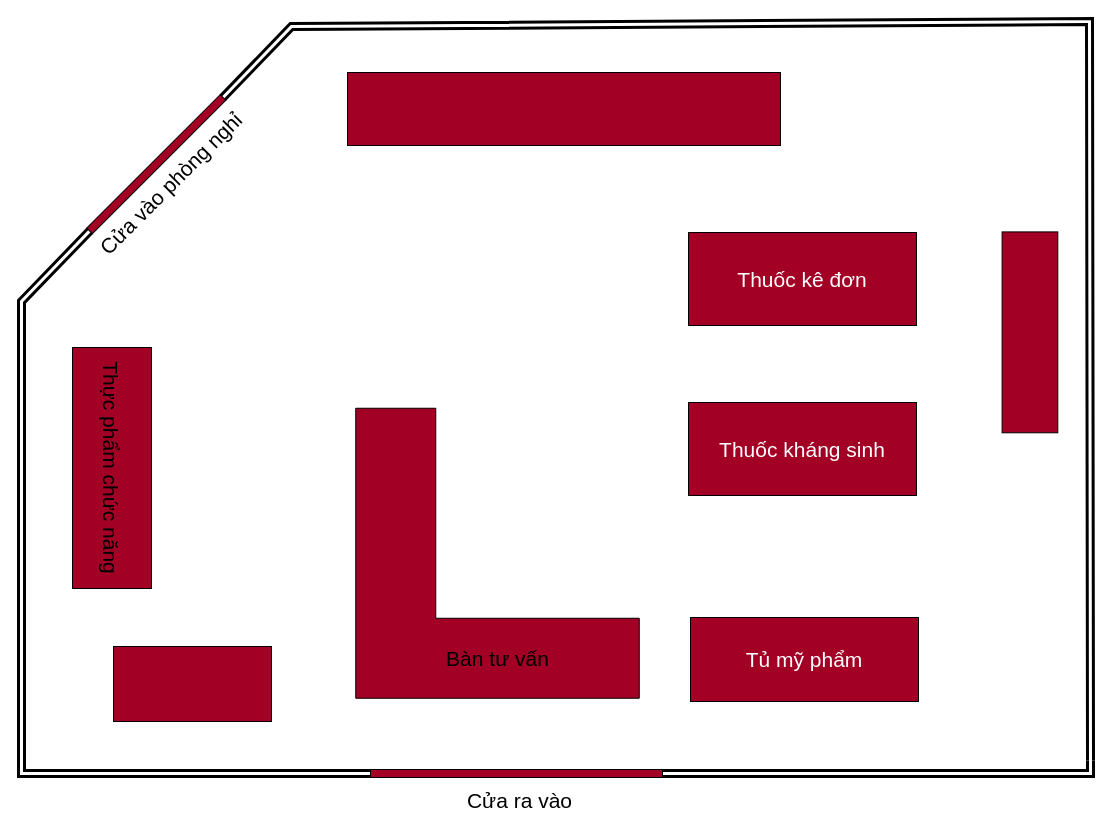
Some shapes in this 1112 by 837 pixel diagram are drawn without their labels. Each missing label, with the box of its shape:
Dụng cụ y tế: (112, 646, 272, 722)
Thuốc không kê đơn: (346, 72, 780, 146)
Điều hòa: (1001, 231, 1058, 433)
